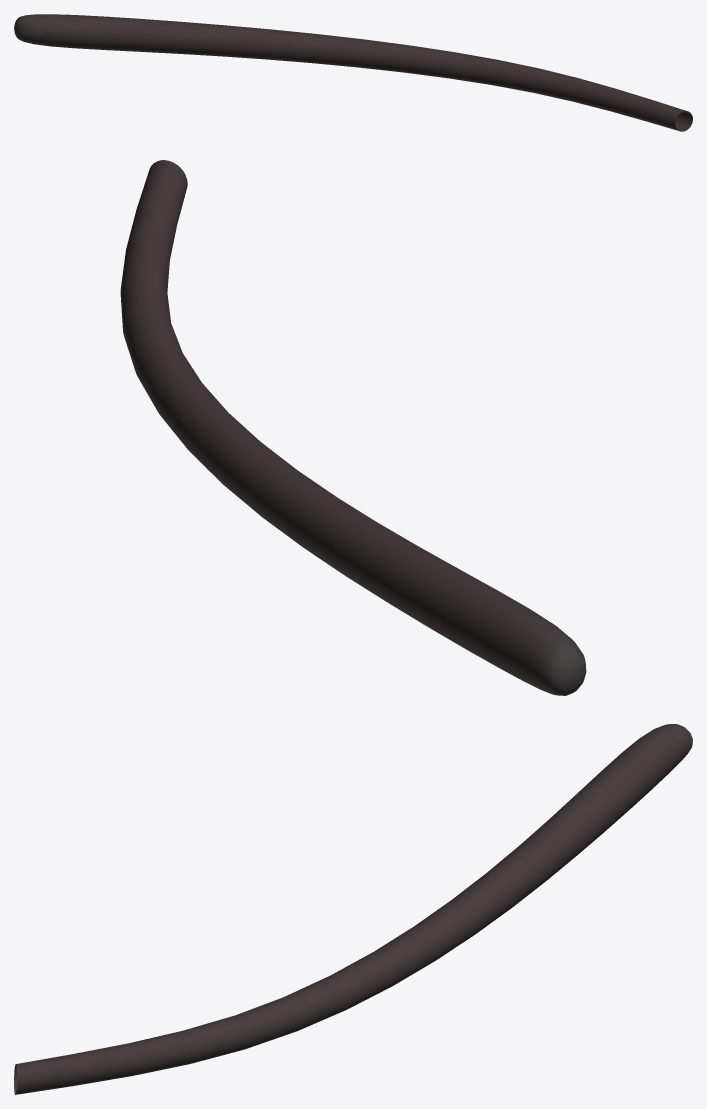
3 views of the same model, one above another, from view 1: azimuth 30°, elevation 25°; view 2: azimuth 150°, elevation 25°; view 3: azimuth 270°, elevation 25° (orthographic). The views are drawn at different scales.
Visible parts, largest first — view 1: BezierCurve.016; view 2: BezierCurve.016; view 3: BezierCurve.016.
Boxes of the visible parts, x1,y1,x2,y2 form: BezierCurve.016: [14, 14, 692, 131]; BezierCurve.016: [120, 160, 586, 695]; BezierCurve.016: [14, 724, 692, 1094].
Bounding box in the file's own units: 1.9 × 0.2171 × 1.75.
1 material, 1 textured.
